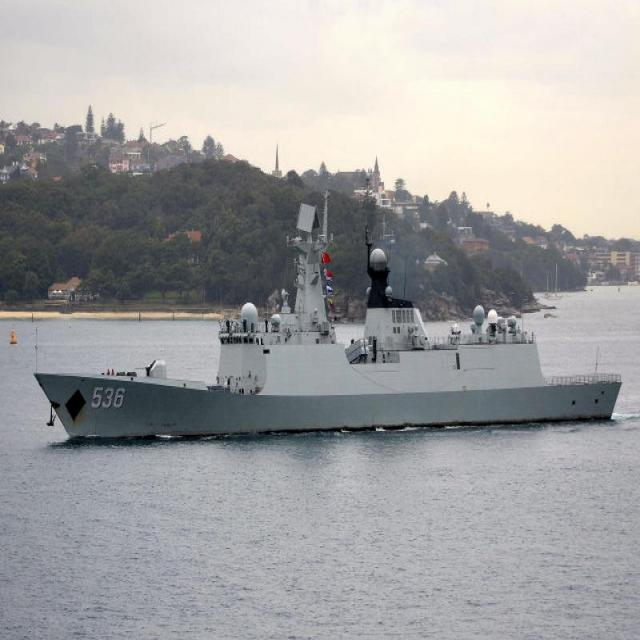Fragata: (33, 200, 624, 450)
